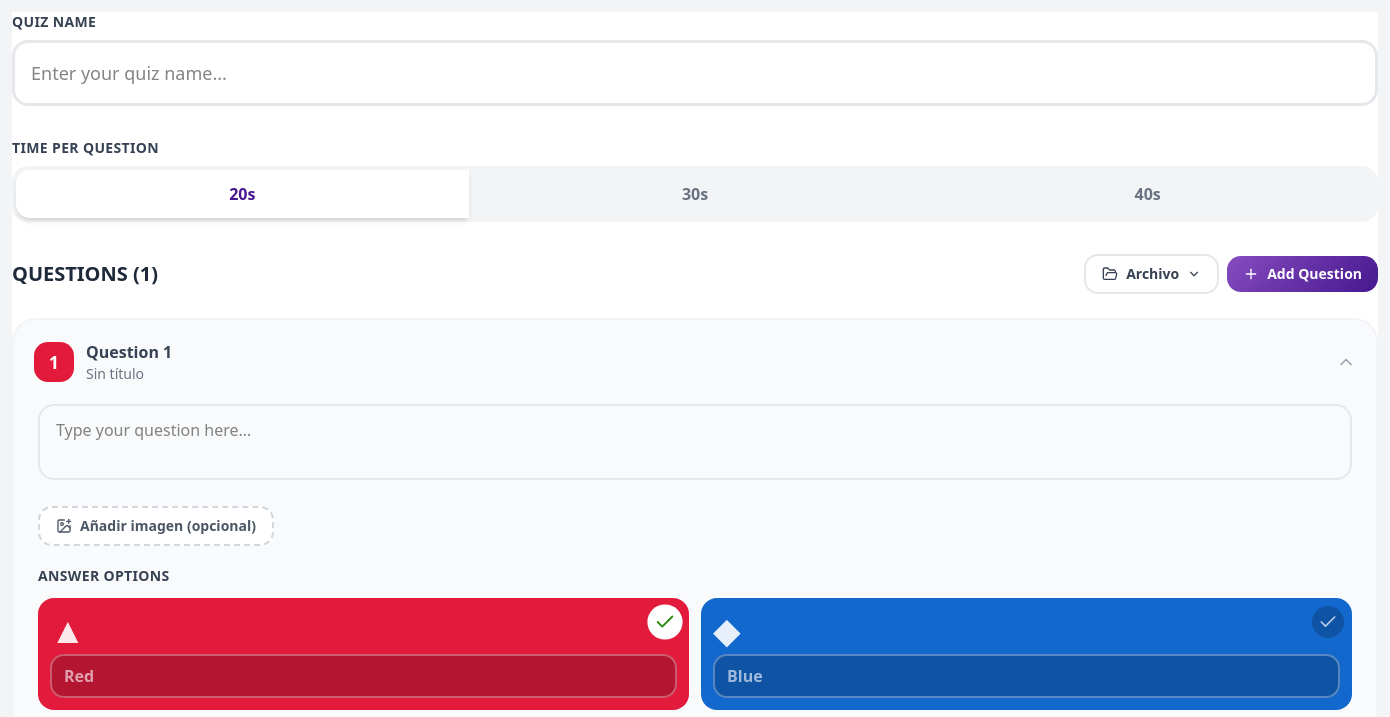
GameForm (caracterización US-14) › eliminar la primera de dos preguntas conserva el contenido de la segunda y la deja abierta
Type "A" into the text box with placeholder "Type your question here...". click: [695, 442]
box: x1=38 y1=404 x2=1352 y2=480
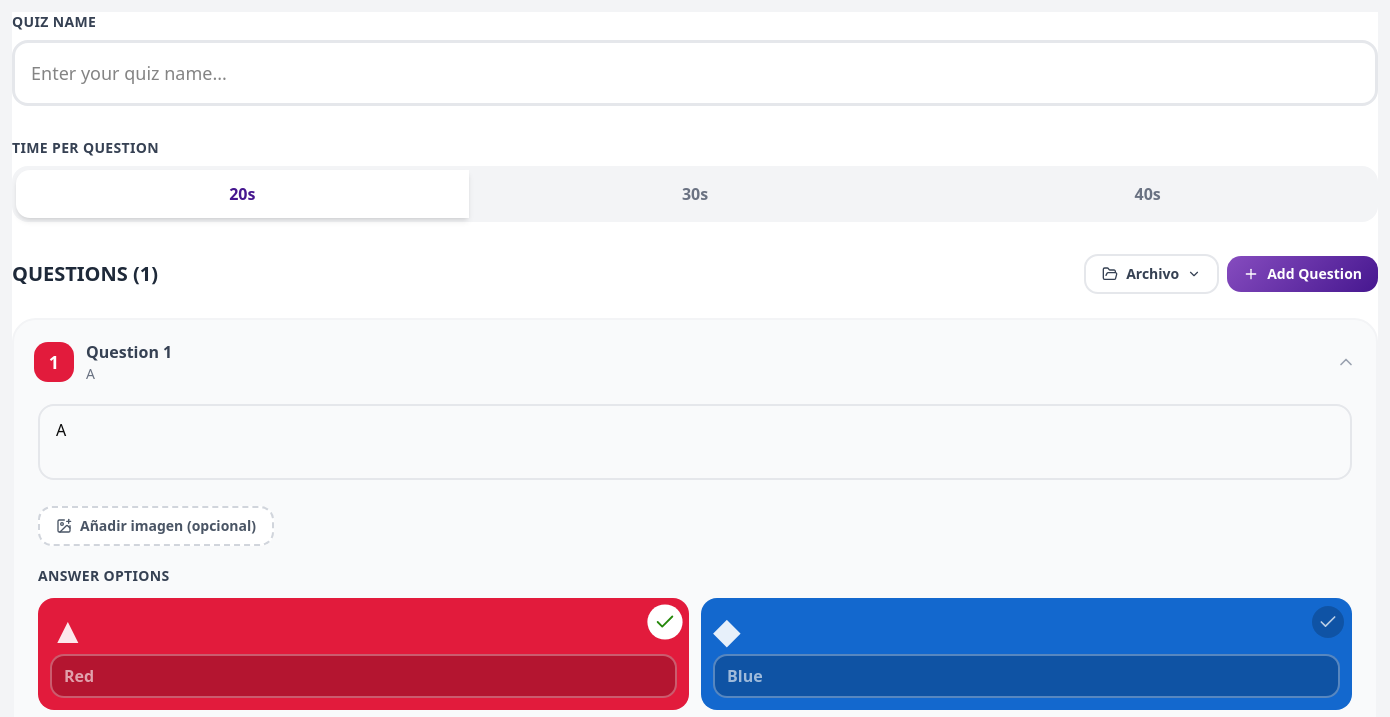
Click the button "Add Question". click: [1303, 274]
box: x1=1227 y1=256 x2=1378 y2=292
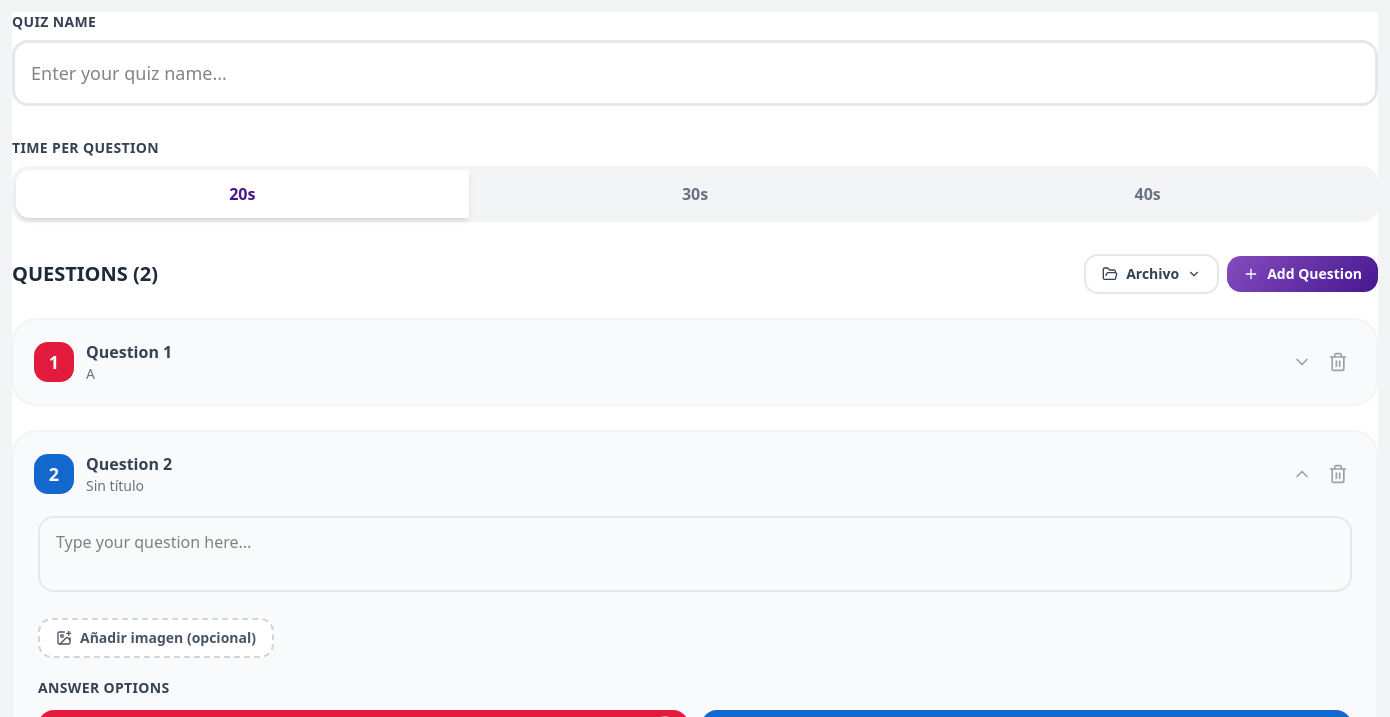
Type "B" into the text box with placeholder "Type your question here...". click: [695, 554]
box: x1=38 y1=516 x2=1352 y2=592
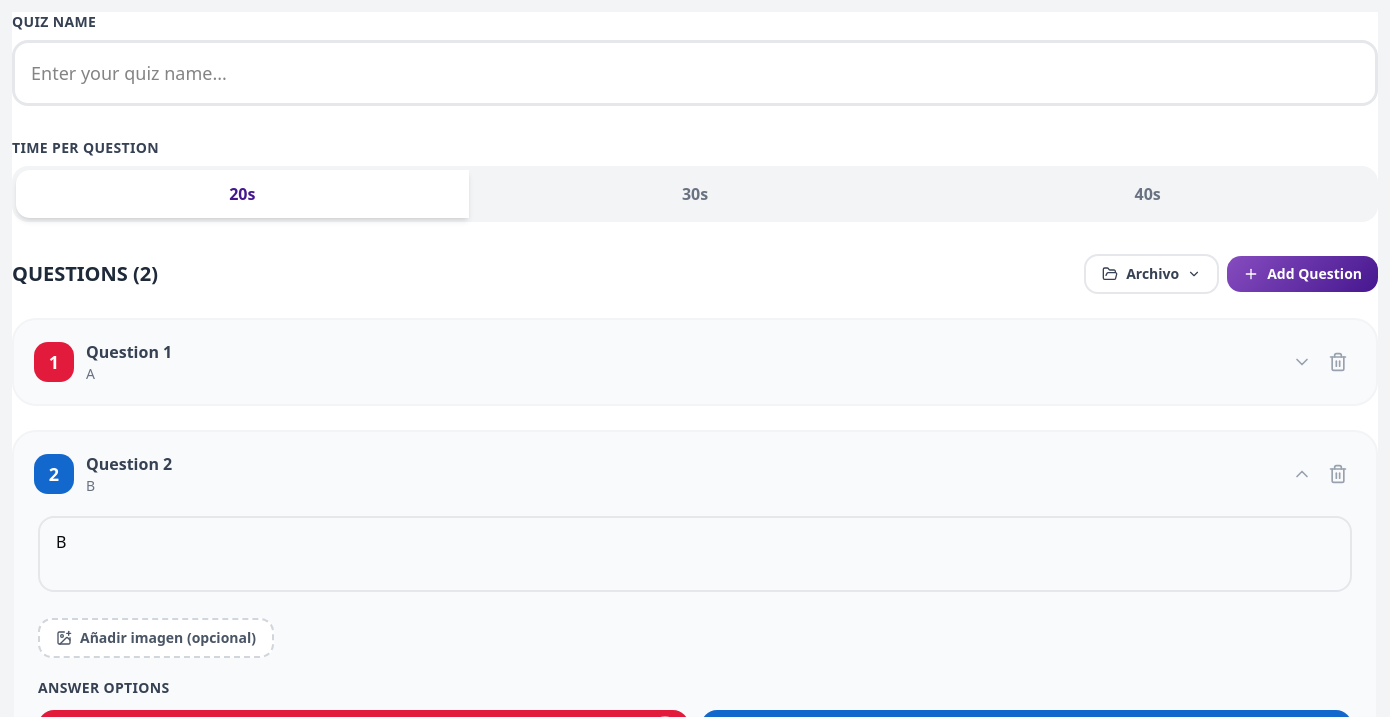
Click the button with class "lucide-trash2". click: [1338, 362]
box: x1=1320 y1=344 x2=1356 y2=380
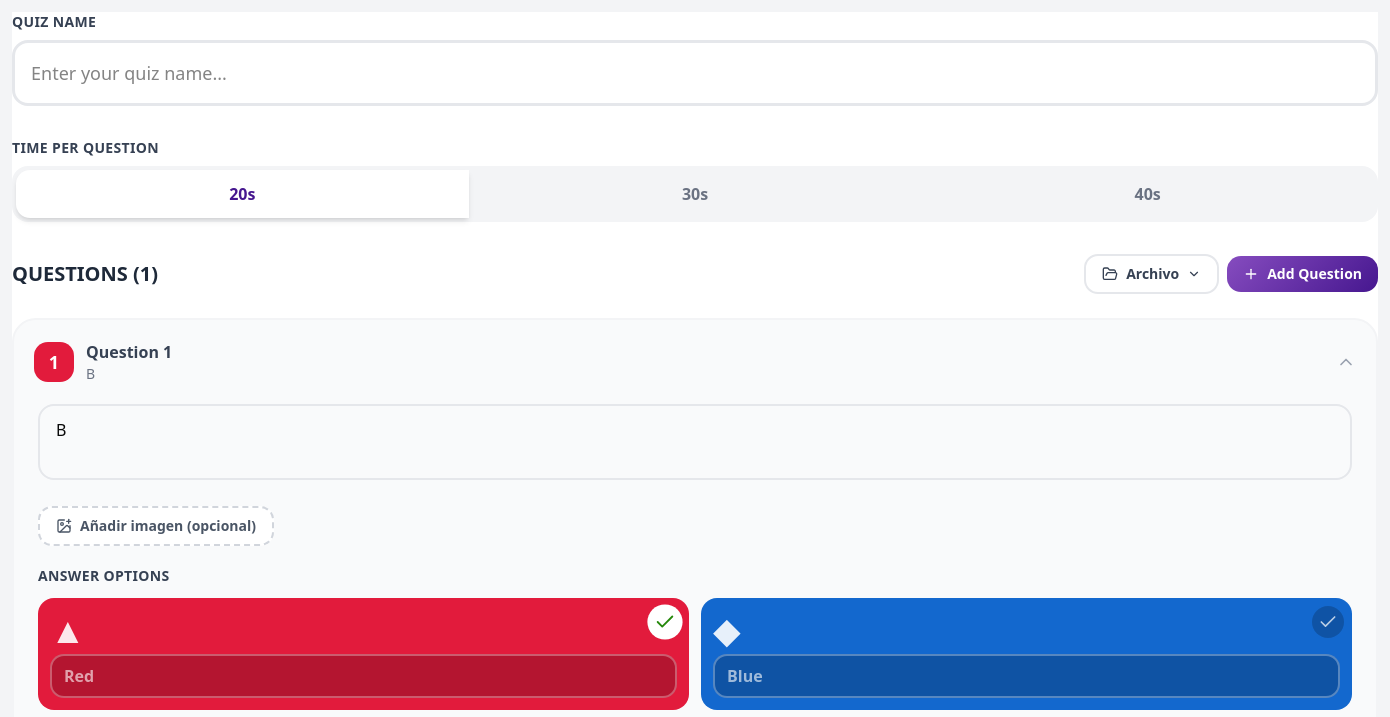
Expected: the text box showing "B" is shown, x1=38 y1=404 x2=1352 y2=480
Expected: the heading "Questions (1)" is shown, x1=12 y1=260 x2=158 y2=288
Expected: the button "1 Question 1 B" is expanded, x1=34 y1=340 x2=1356 y2=384
